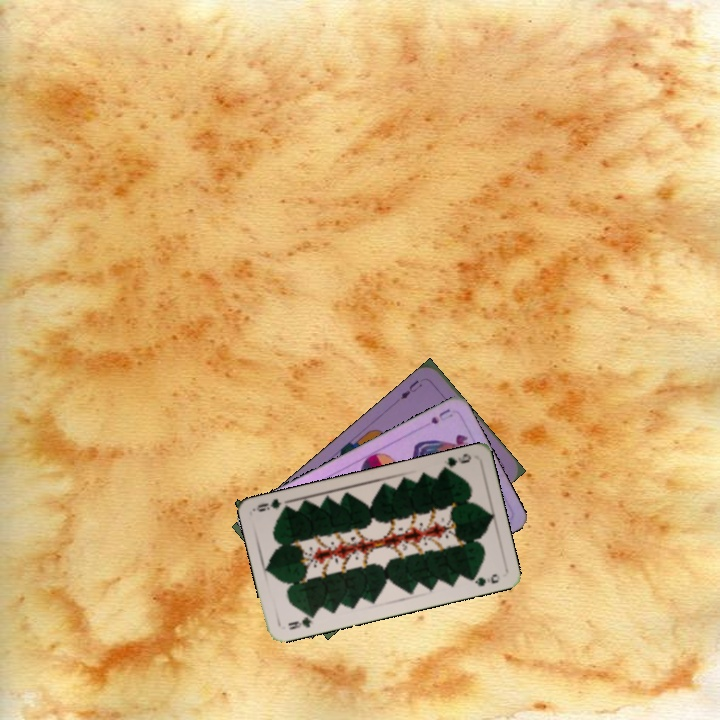EU: (396, 376, 425, 402)
G9: (437, 449, 474, 475), (283, 609, 319, 632)
SU: (426, 405, 455, 427)
